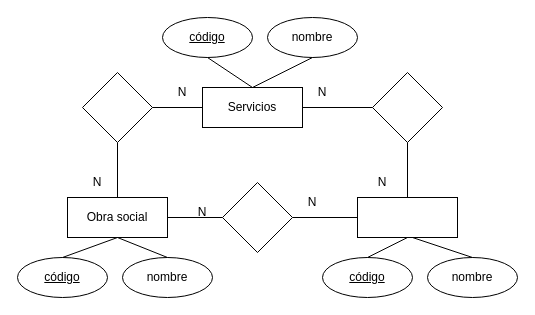
The diagram is 535 pixels wide and 315 high, and some of its shapes have lost their labels. Here are the shapes that lost their labels. From the top down, the centre of each, then its label:
At [117,107]: "presta".
At [407,107]: "ofrece".
At [257,217]: "tiene convenio con".
At [407,217]: "Clinicas".
